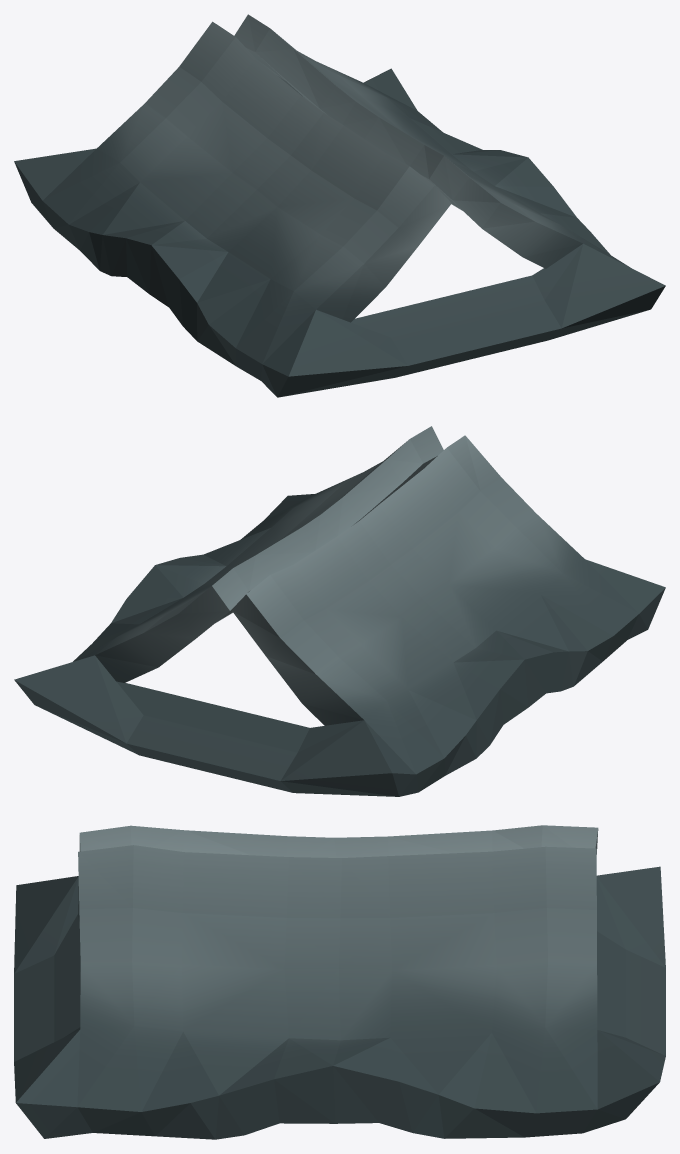
File: Shrine_RoofOnly.gltf
The picture shows the model from 3 angles, top to bottom: view 1: azimuth 30°, elevation 25°; view 2: azimuth 150°, elevation 25°; view 3: azimuth 270°, elevation 25°; orthographic projection. The views are drawn at different scales.
Parts seen in each view (by area): view 1: Shrine_RoofOnly; view 2: Shrine_RoofOnly; view 3: Shrine_RoofOnly.
Boxes of the visible parts, x1,y1,x2,y2 form: Shrine_RoofOnly: [14, 14, 665, 397]; Shrine_RoofOnly: [14, 426, 665, 796]; Shrine_RoofOnly: [14, 825, 665, 1139].
Size of the model in its own units: 4.67 by 2.04 by 5.92.
1 material, 1 textured.
